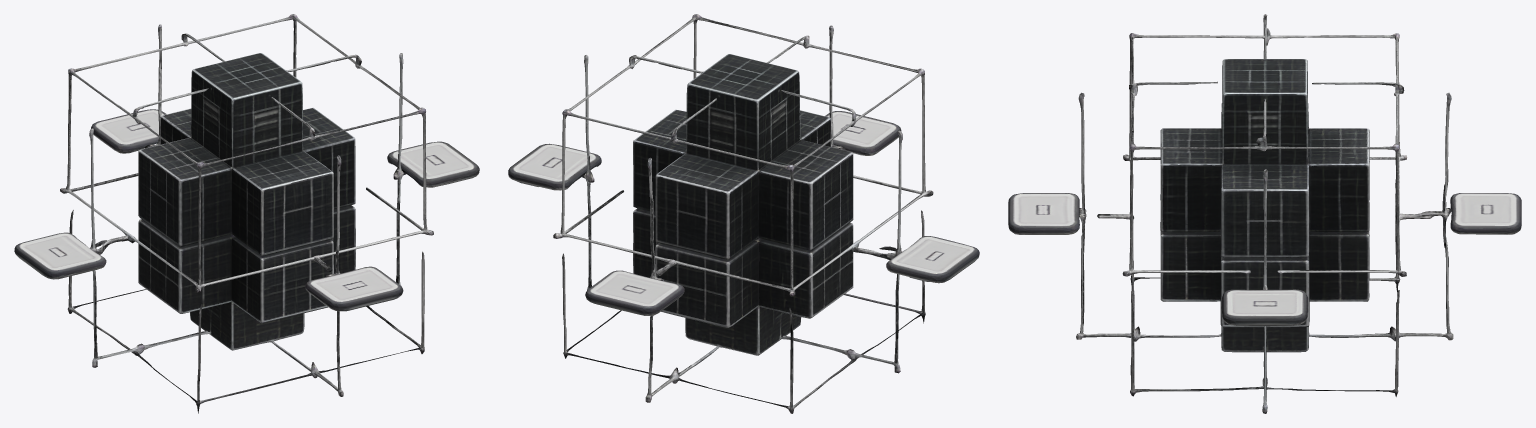
Rendered from FLOATING.glb.
3 renders of one model, left to right at view 1: azimuth 30°, elevation 25°; view 2: azimuth 150°, elevation 25°; view 3: azimuth 270°, elevation 25°, orthographic. The views are drawn at different scales.
Visible parts, largest first — view 1: world; view 2: world; view 3: world.
Part boxes in pixels (x1,y1,x2,y2): world: [14, 14, 479, 413]; world: [508, 14, 979, 413]; world: [1008, 14, 1521, 413].
Bounding box in the file's own units: 1 × 0.5814 × 1.
1 material, 1 textured.
